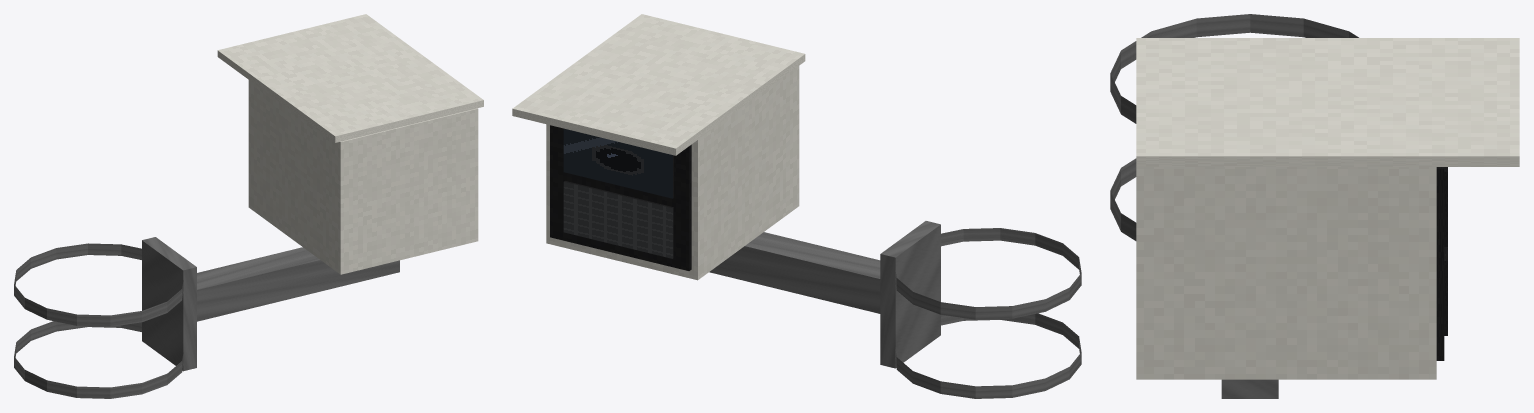
Rendered from speed_camera_side_left_thin.obj.
3 renders of one model, left to right at view 1: azimuth 30°, elevation 25°; view 2: azimuth 150°, elevation 25°; view 3: azimuth 270°, elevation 25°, orthographic. The views are drawn at different scales.
Visible parts, largest first — view 1: speed_camera_side_left_thin; view 2: speed_camera_side_left_thin; view 3: speed_camera_side_left_thin.
Boxes of the visible parts, x1,y1,x2,y2 form: speed_camera_side_left_thin: (14,14,483,398); speed_camera_side_left_thin: (512,14,1081,398); speed_camera_side_left_thin: (1110,14,1519,398).
Size of the model in its own units: 1.54 by 0.735 by 0.79.
